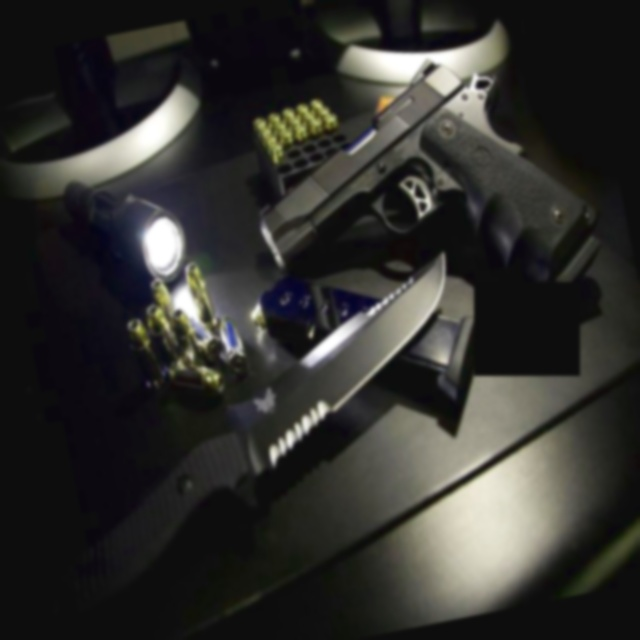gun: (54, 233, 504, 601)
